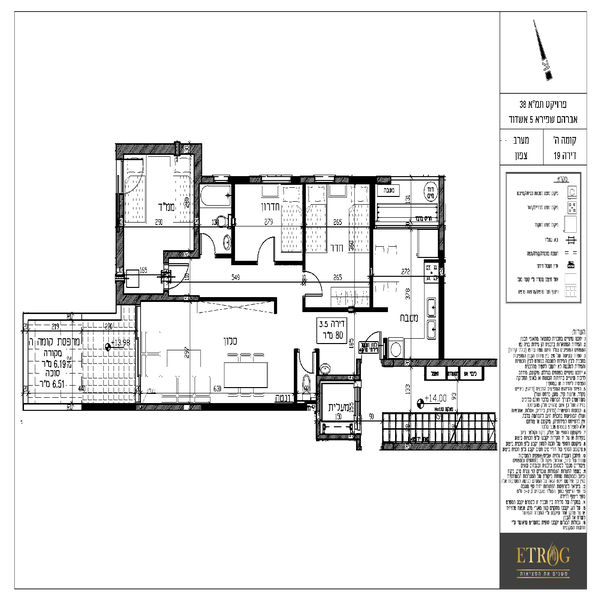door: (112, 156, 147, 194), (160, 261, 200, 292), (301, 269, 334, 304), (256, 234, 285, 263), (197, 231, 224, 261), (360, 334, 388, 356), (293, 344, 312, 374)
room: (193, 174, 377, 314), (132, 304, 318, 412), (367, 178, 448, 367), (115, 151, 200, 312)
wall: (83, 399, 307, 413), (435, 174, 447, 358), (384, 358, 498, 371), (366, 185, 377, 309), (225, 183, 240, 264), (191, 159, 202, 257), (115, 144, 203, 156), (300, 184, 311, 264), (117, 194, 124, 307), (301, 304, 387, 313), (336, 172, 396, 184), (121, 293, 197, 302), (198, 297, 282, 304), (292, 348, 300, 401), (317, 374, 359, 384), (314, 432, 357, 441)
window: (263, 172, 289, 188), (315, 172, 336, 187)
